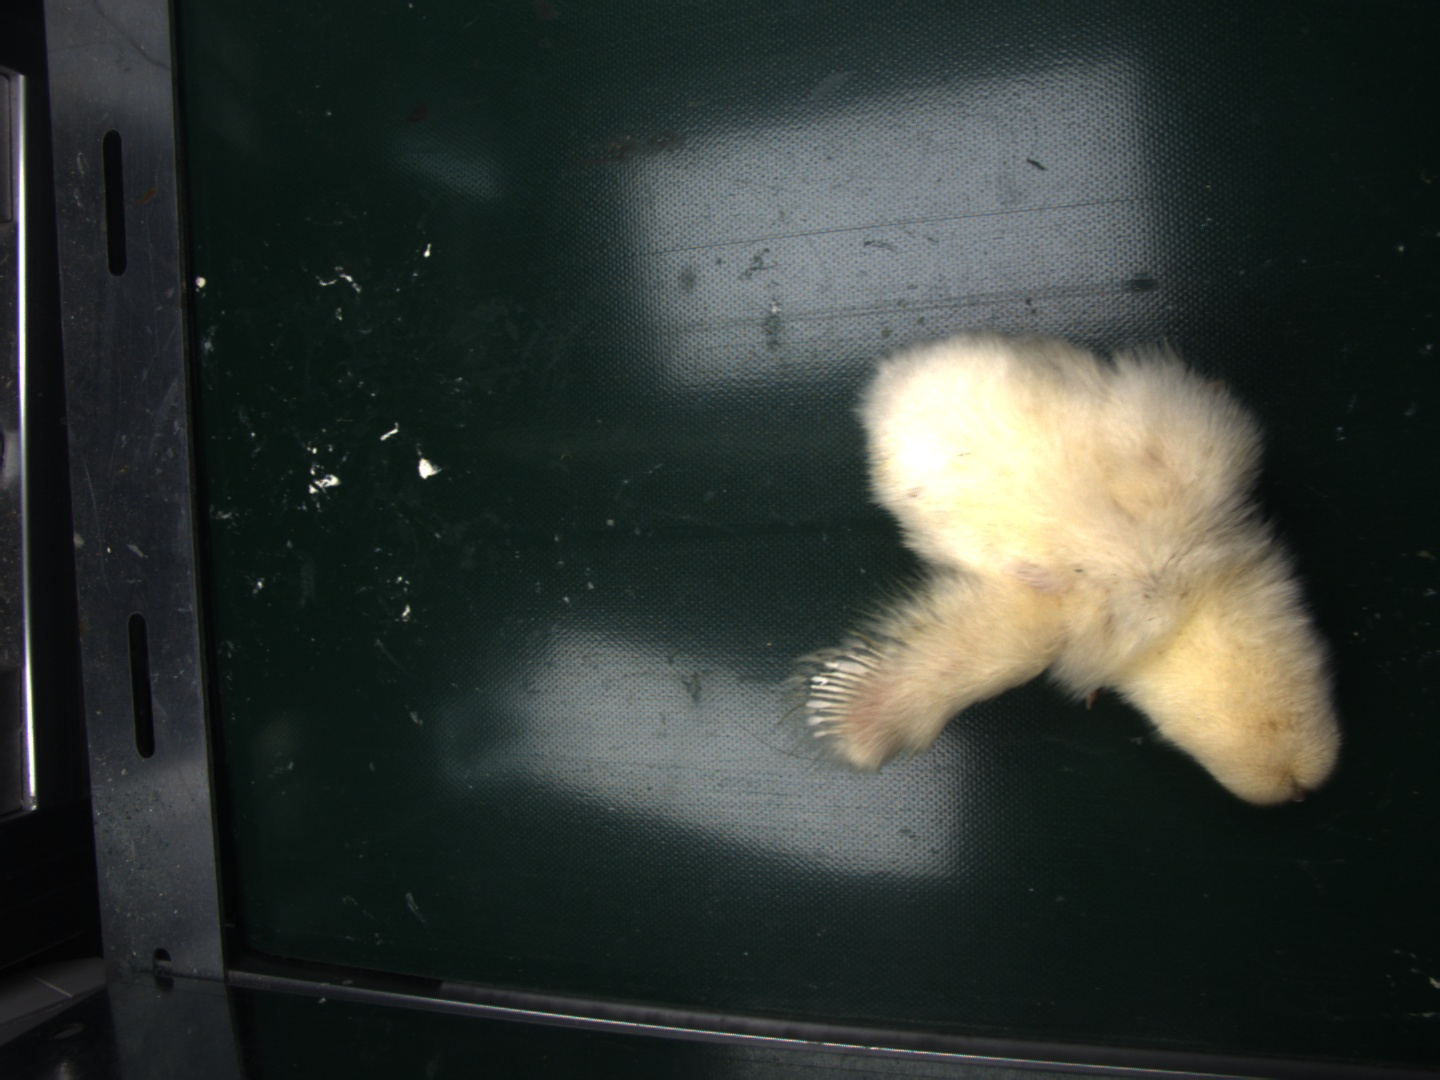male: (806, 649, 874, 743)
